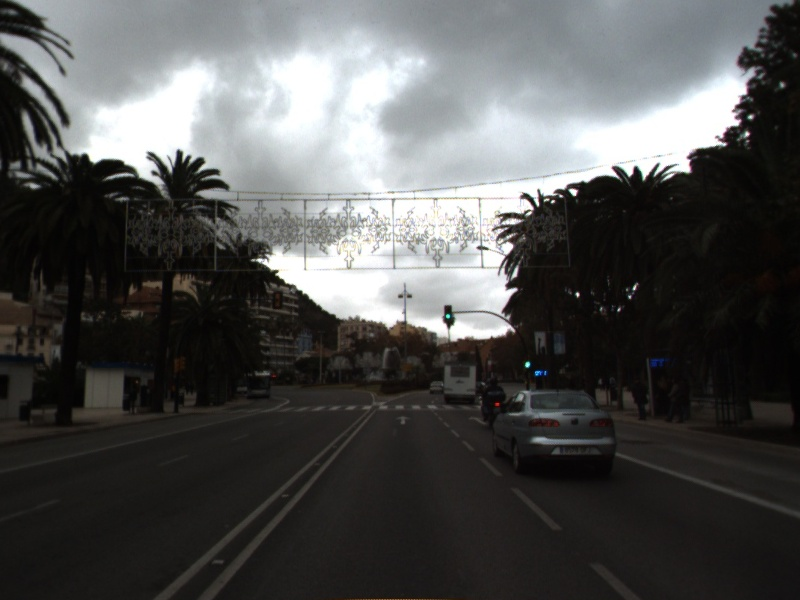STRAIGHT: (393, 413, 414, 426), (466, 414, 488, 426)
